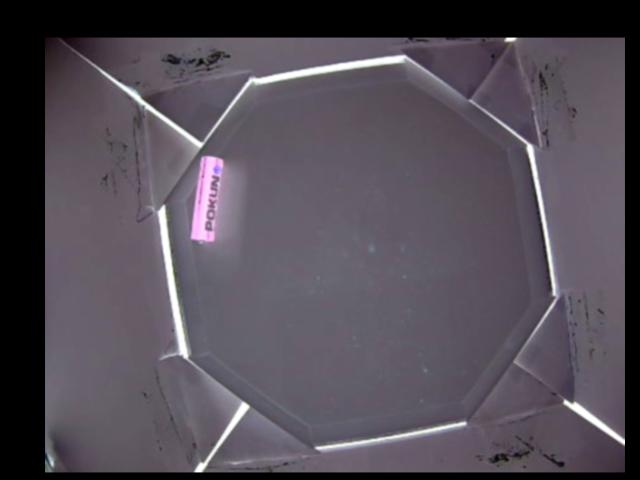Battery: (190, 154, 224, 245)
